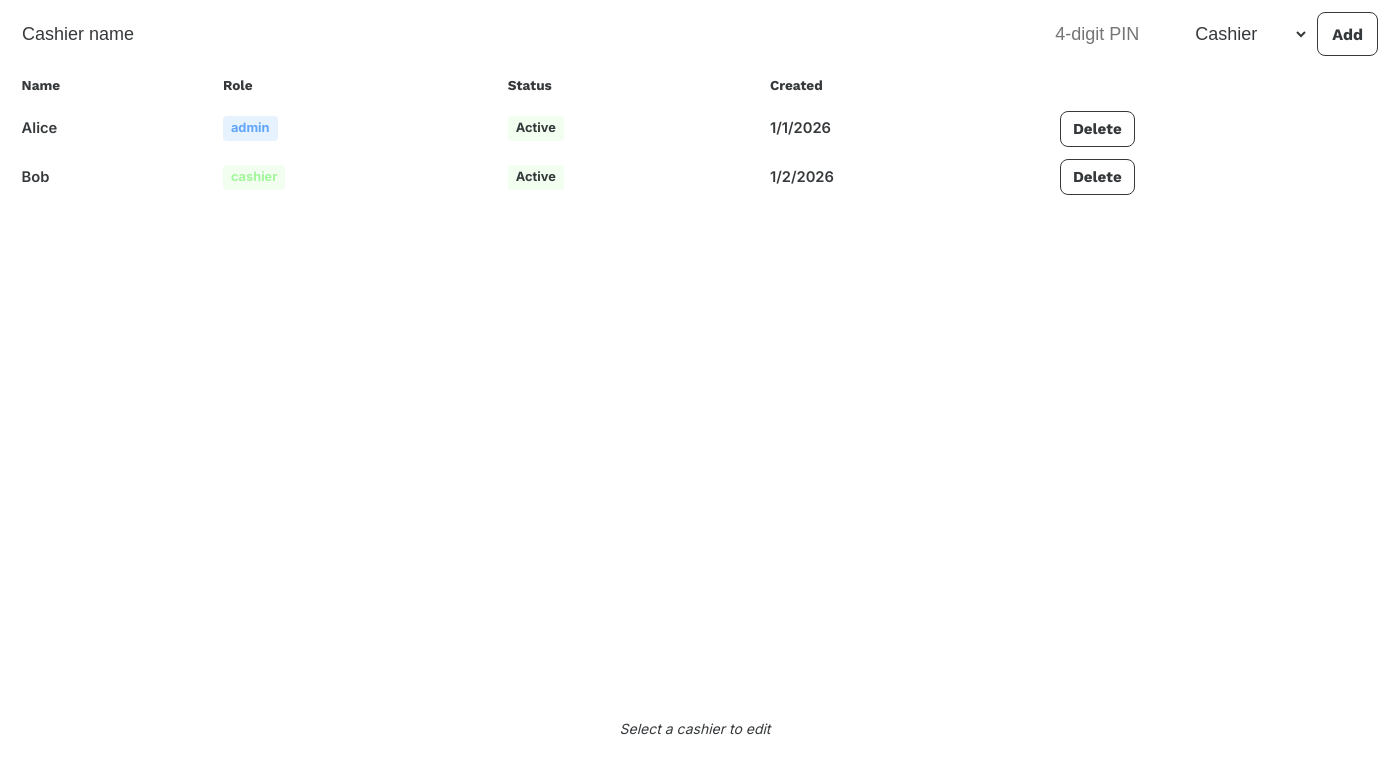
Test: CashierPanel › displays success message after updating a cashier
Expected: the text "Alice" is shown, [12,104,213,153]
Click the text "Alice": (39,128) [12,104,1378,153]
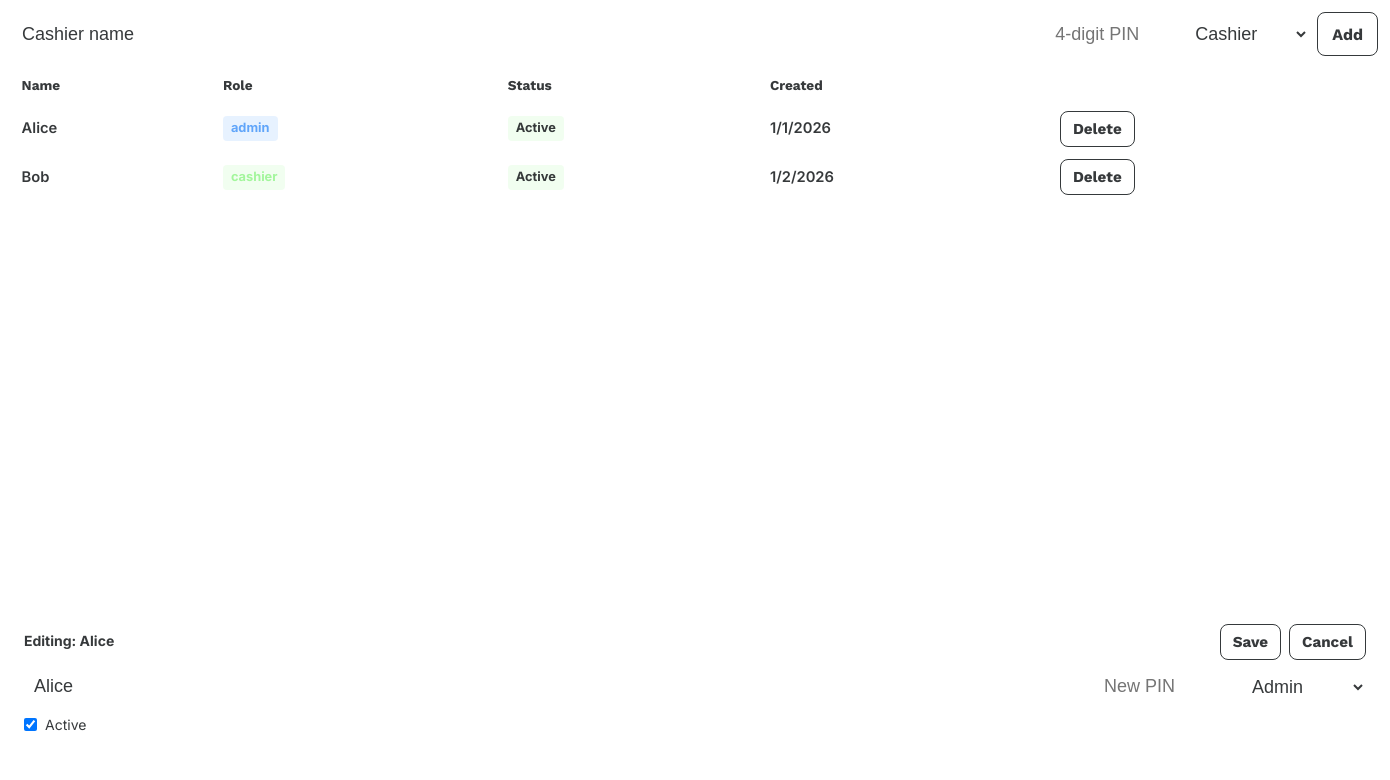
Expected: the field showing "Alice" is shown
Replace the text in the field showing "Alice" with "Alicia": (551,687) [24,668,1078,705]
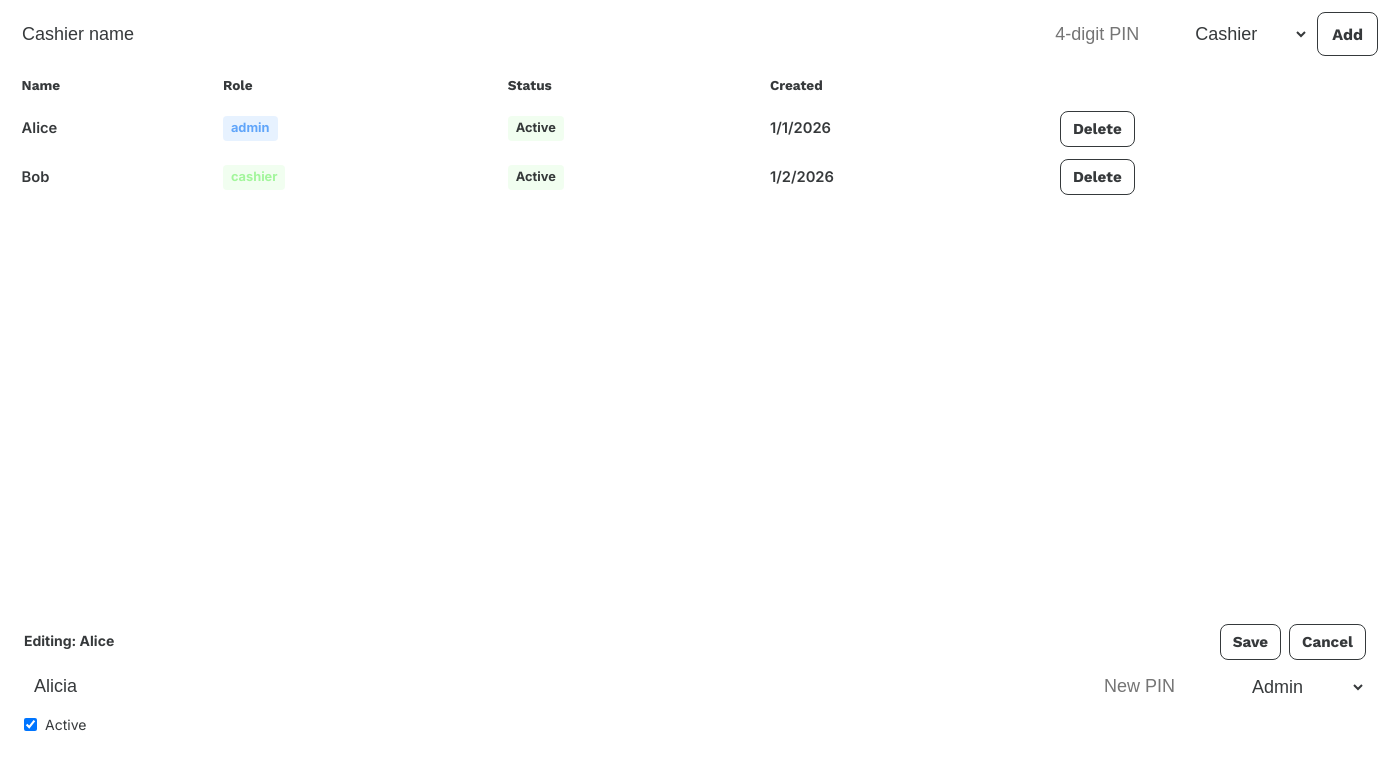
Click the button "Save": (1250,642) [1220,624,1281,660]
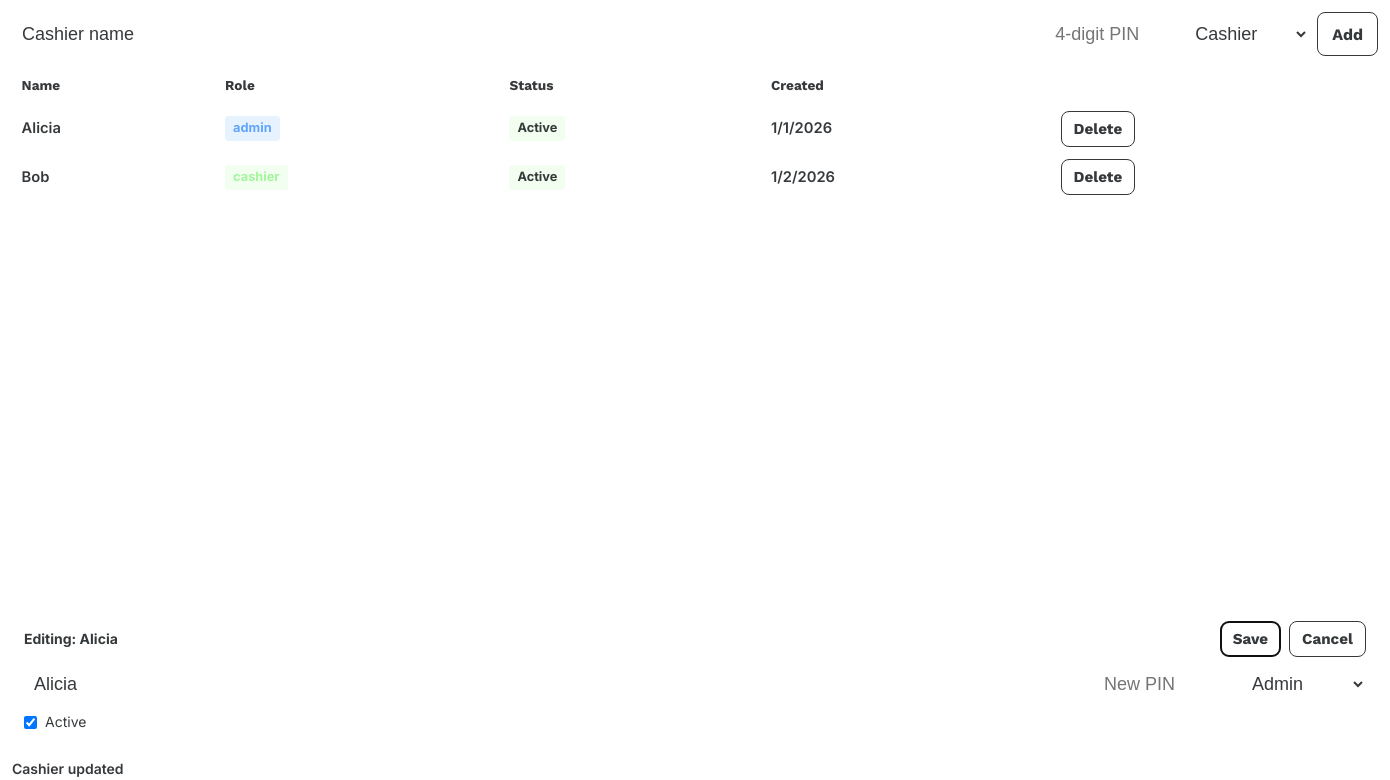
Expected: the text "Cashier updated" is shown, [12,760,124,777]
